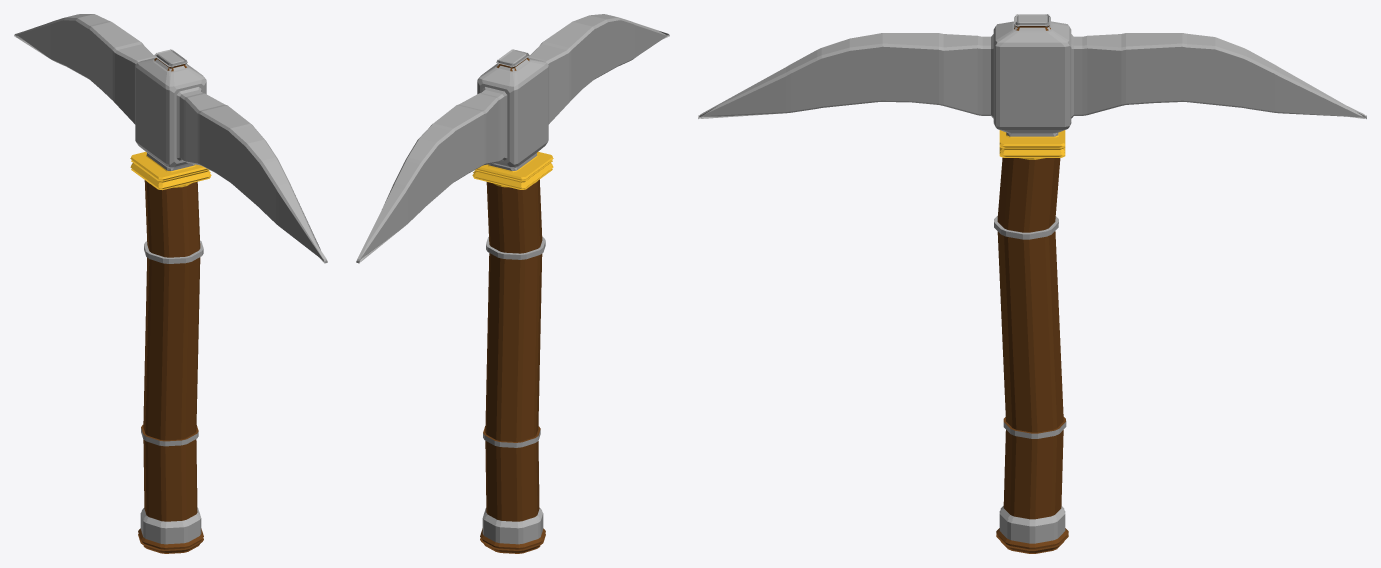
Rendered from pickaxe.fbx.
3 views of the same model, side by side, from view 1: azimuth 30°, elevation 25°; view 2: azimuth 150°, elevation 25°; view 3: azimuth 270°, elevation 25° (orthographic). The views are drawn at different scales.
Visible parts, largest first — view 1: Cube; view 2: Cube; view 3: Cube.
Part boxes in pixels (x1=…): Cube: x1=14, y1=14, x2=327, y2=553; Cube: x1=356, y1=14, x2=669, y2=553; Cube: x1=698, y1=14, x2=1366, y2=553.
Bounding box in the file's own units: 207 × 1651 × 1915.
